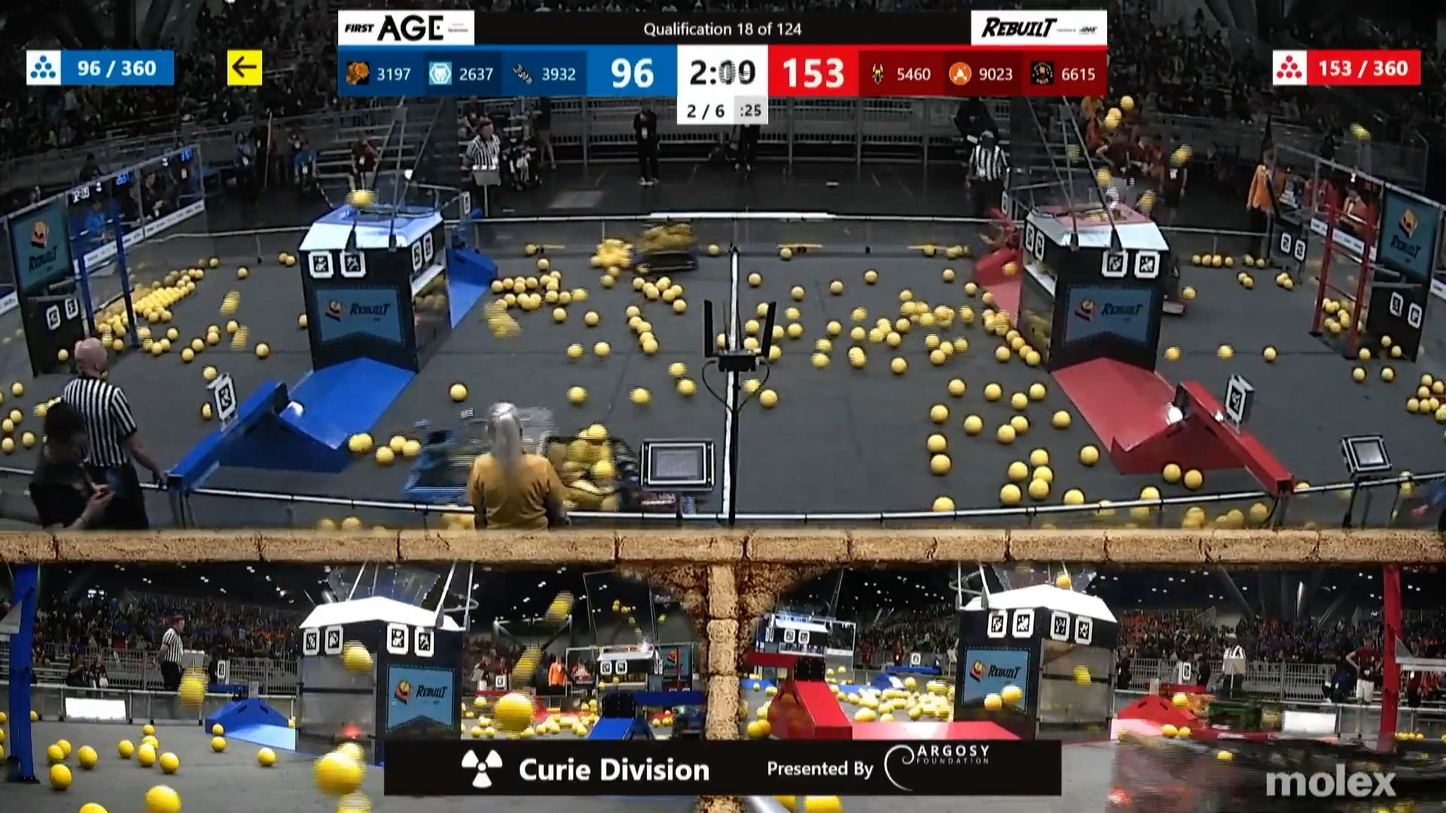bumpers: (394, 455, 493, 510), (636, 250, 699, 274)
